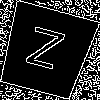Z: (21, 26, 66, 79)
